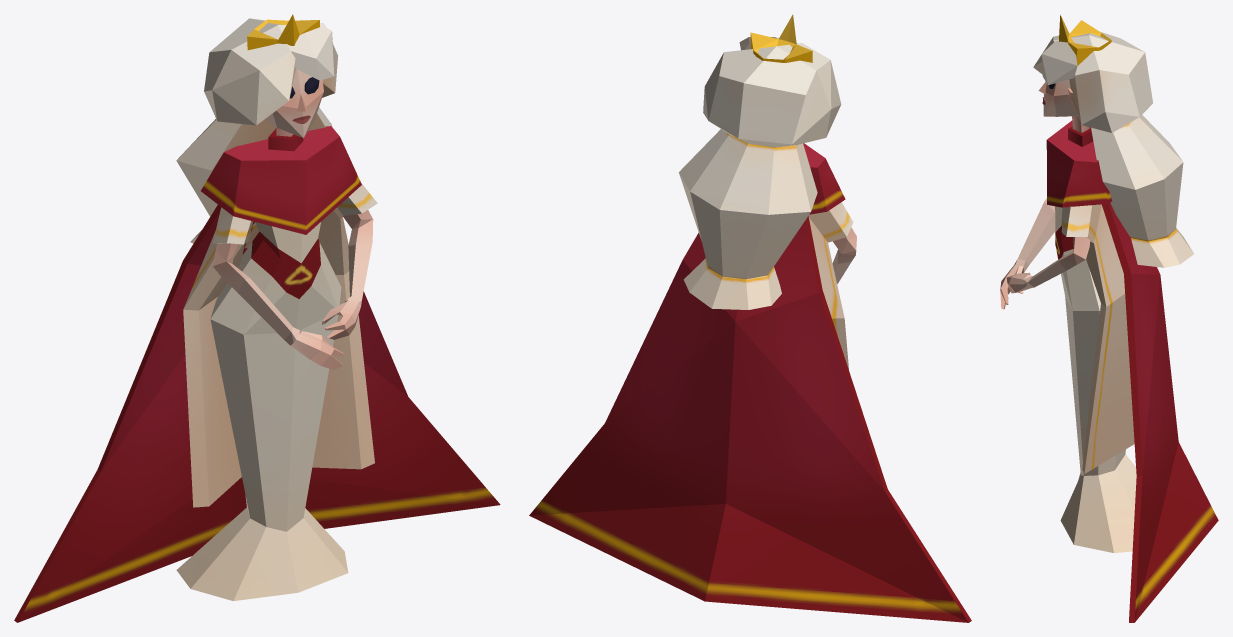
The model's file is Queen.glb.
3 renders of one model, left to right at view 1: azimuth 30°, elevation 25°; view 2: azimuth 150°, elevation 25°; view 3: azimuth 270°, elevation 25°, orthographic. The views are drawn at different scales.
Visible parts, largest first — view 1: mesh_0; view 2: mesh_0; view 3: mesh_0.
Boxes of the visible parts, left/top/right/bottom form: mesh_0: left=14, top=14, right=500, bottom=622; mesh_0: left=529, top=14, right=971, bottom=622; mesh_0: left=1000, top=14, right=1218, bottom=622.
Size of the model in its own units: 1.6 by 1.83 by 0.7188.
1 material, 1 textured.
